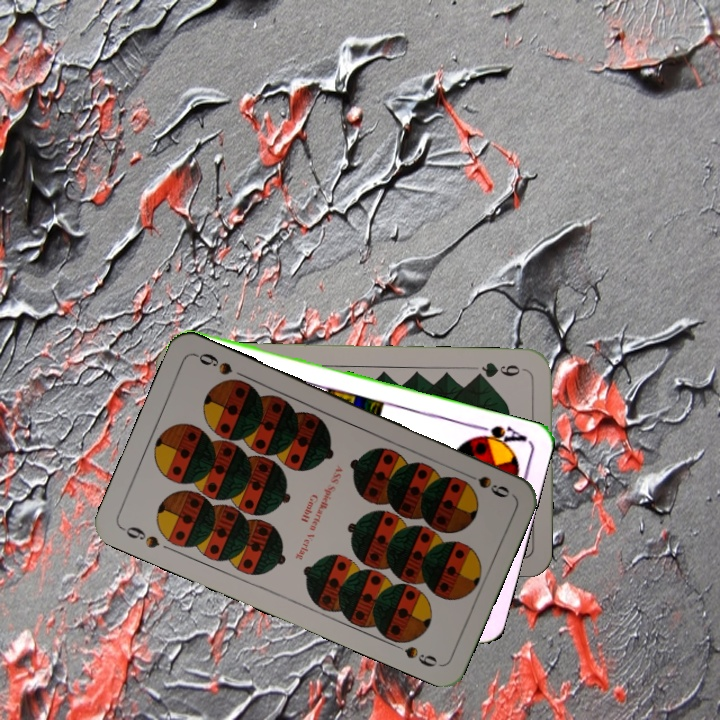G9: (470, 358, 529, 381)
S9: (457, 467, 513, 501), (117, 522, 162, 551)
SA: (467, 420, 529, 451)
